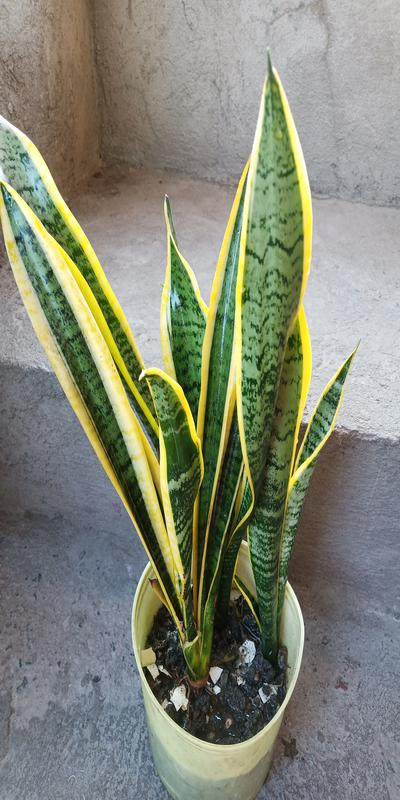Snake plant: (4, 122, 365, 710)
